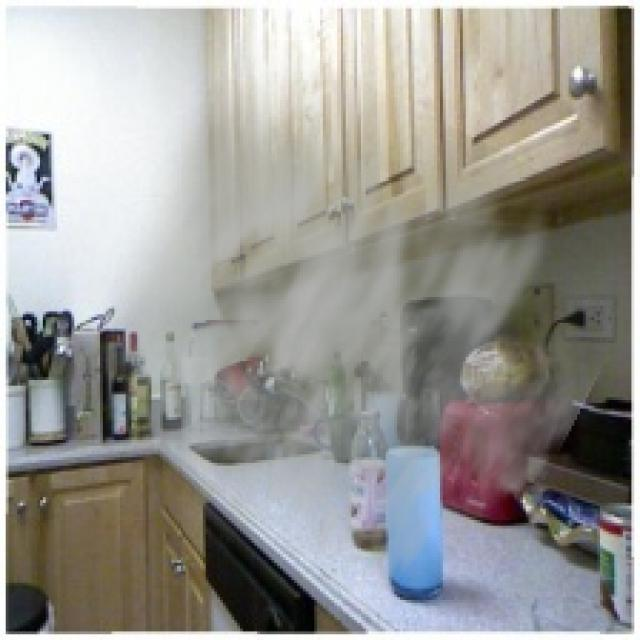smoke: (83, 29, 626, 597)
